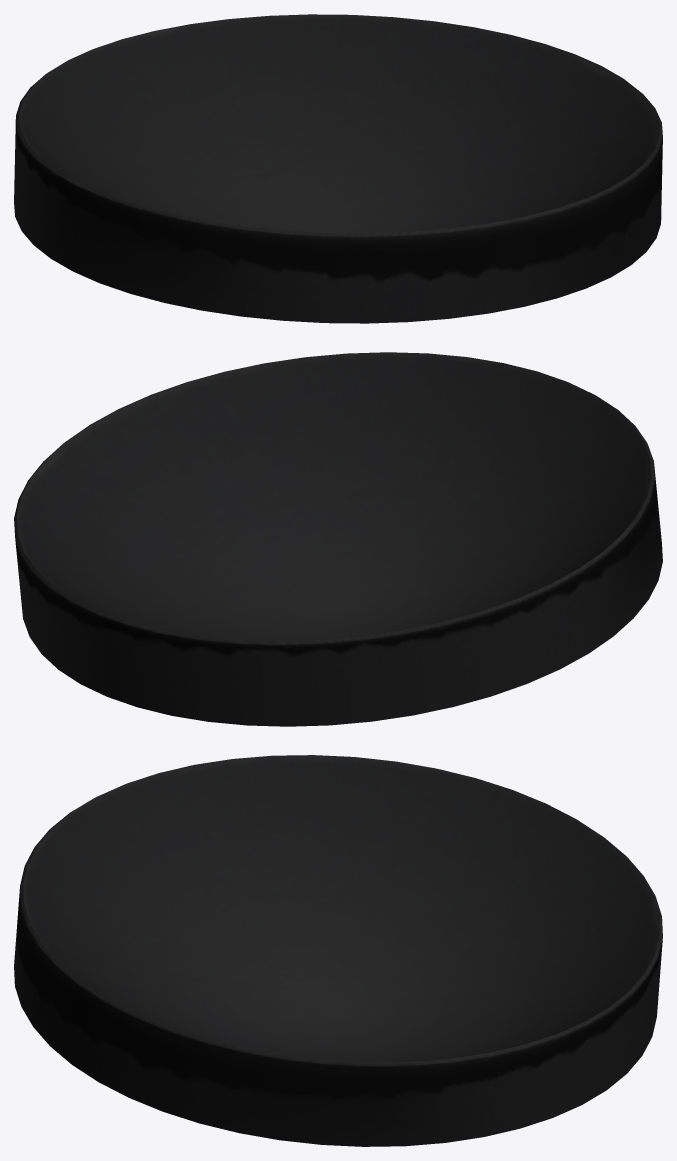
File: trackpad_right.obj
3 renders of one model, top to bottom at view 1: azimuth 30°, elevation 25°; view 2: azimuth 150°, elevation 25°; view 3: azimuth 270°, elevation 25°, orthographic.
Parts seen in each view (by area): view 1: touchpad; view 2: touchpad; view 3: touchpad.
Boxes of the visible parts, x1,y1,x2,y2 form: touchpad: [14, 14, 662, 323]; touchpad: [14, 352, 662, 726]; touchpad: [14, 755, 662, 1146].
Size of the model in its own units: 0.0376 by 0.00883 by 0.0376.
1 material, 1 textured.
